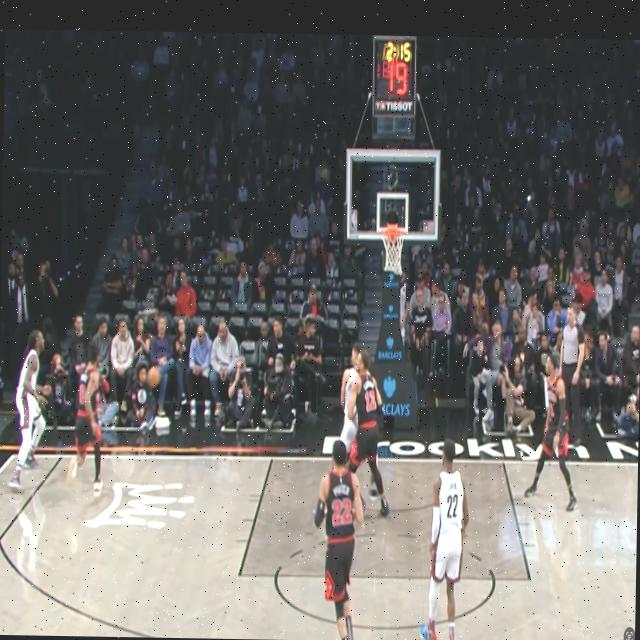no foul: (300, 345, 509, 640)
